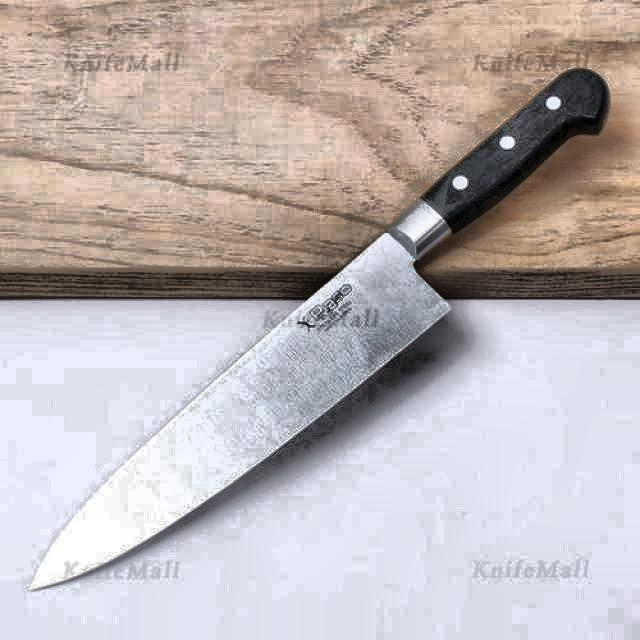knife: (24, 63, 614, 592)
